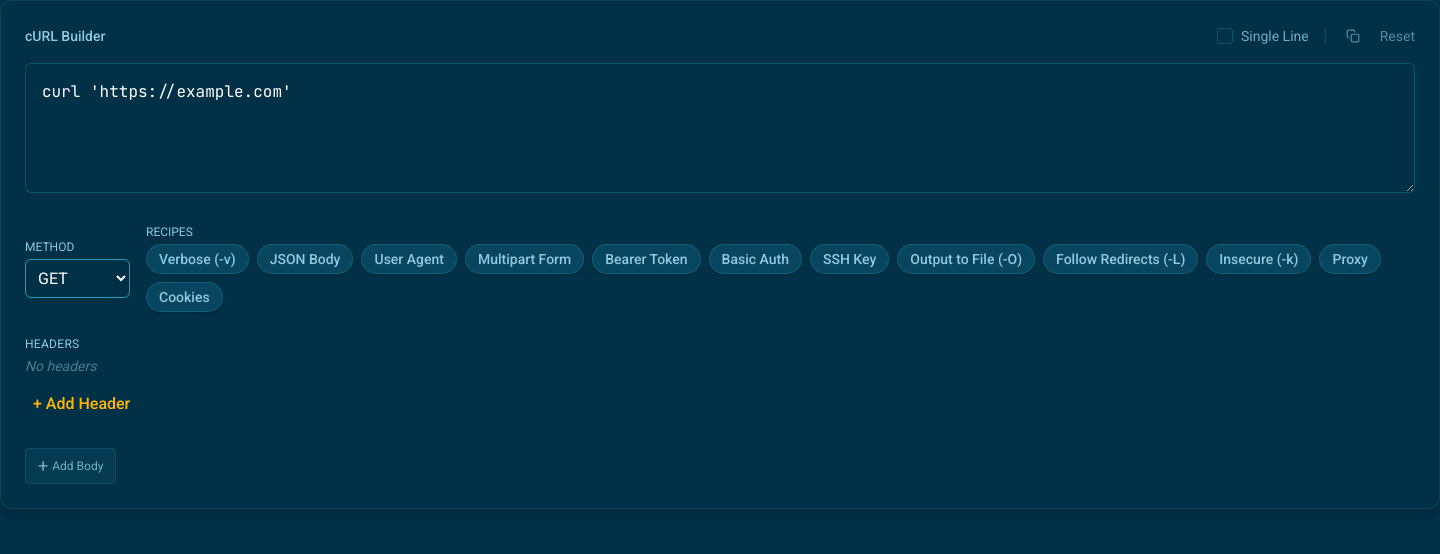
Test: CurlBuilder › should clear error message on reset
Type "invalid" into the text box with placeholder "curl 'https://example.com'" at (720, 128), box 25,63 -> 1415,193
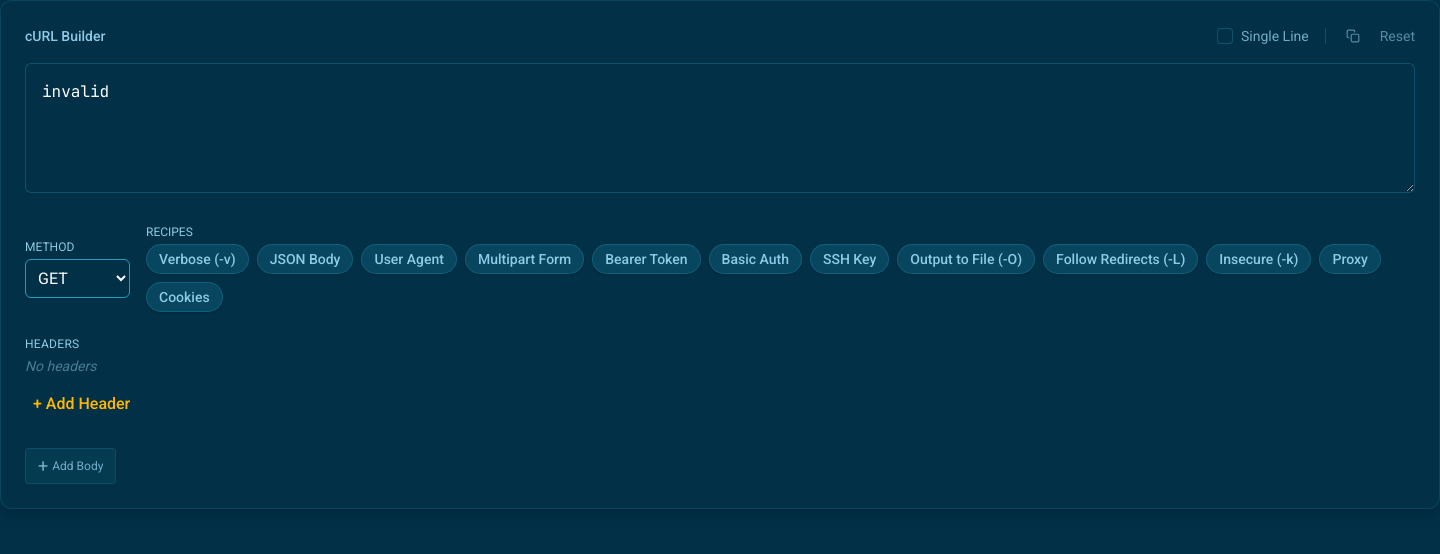
Note: Blur to trigger immediate parse error
Leave the text box with placeholder "curl 'https://example.com'", box 25,63 -> 1415,193
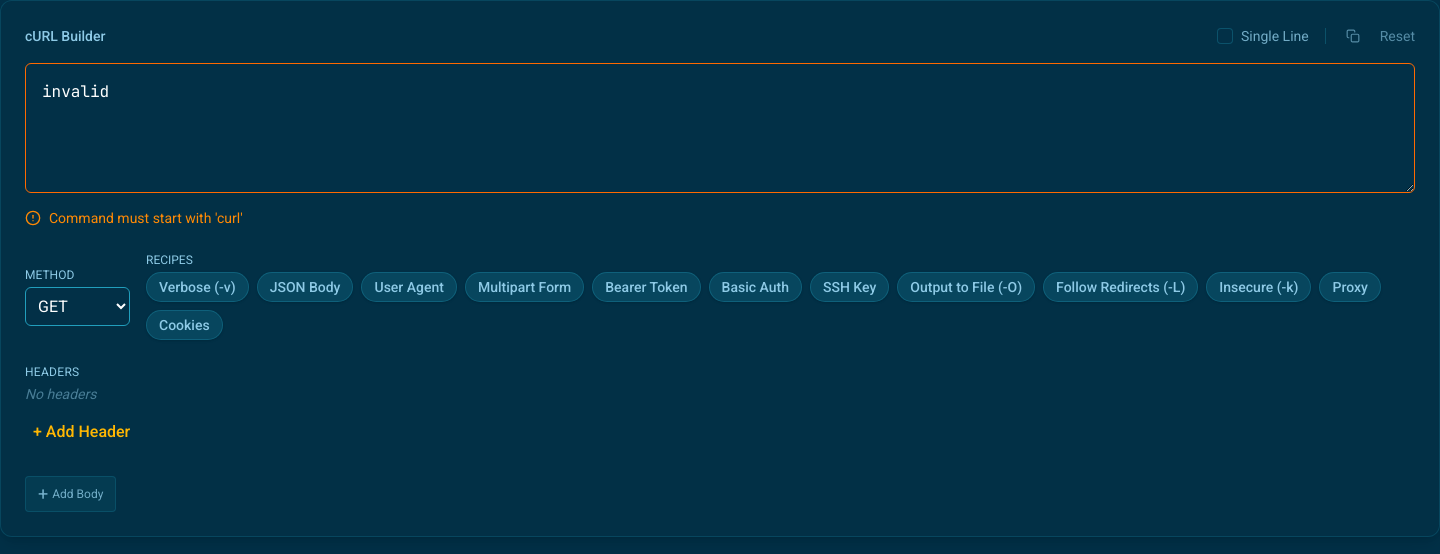
Expected: the text "Command must start with 'curl'" is shown, 49,208 -> 243,228
Click the button "Reset" at (1397, 36), box 1380,26 -> 1415,46
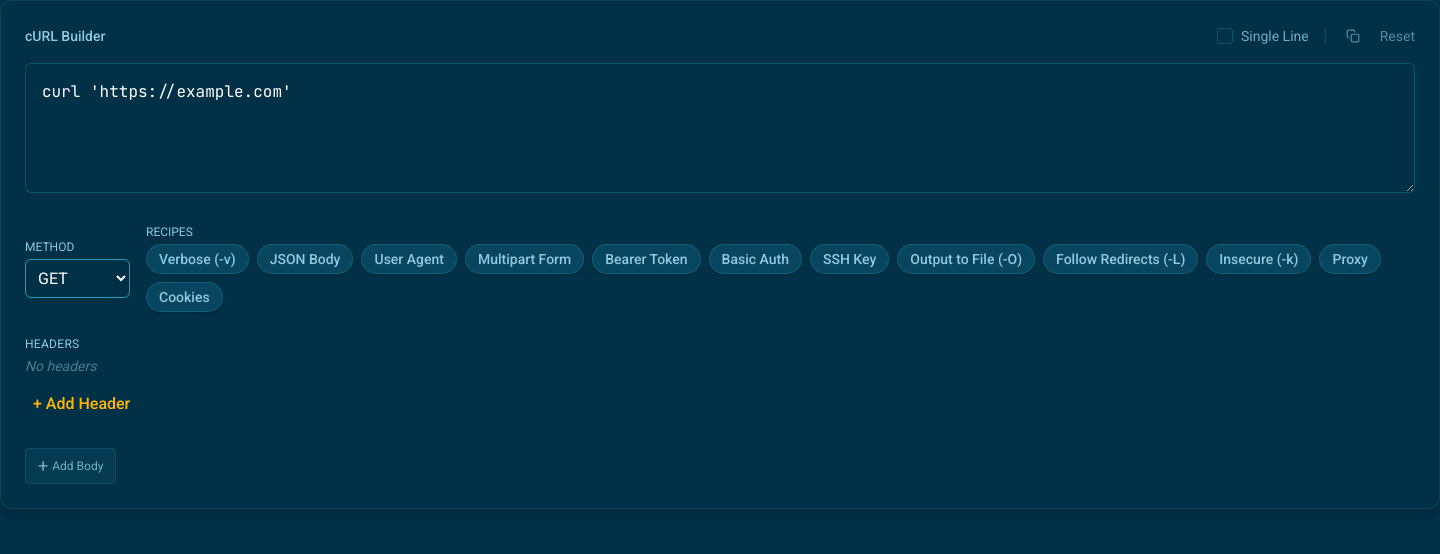
Expected: the text "Command must start with 'curl'" is gone
